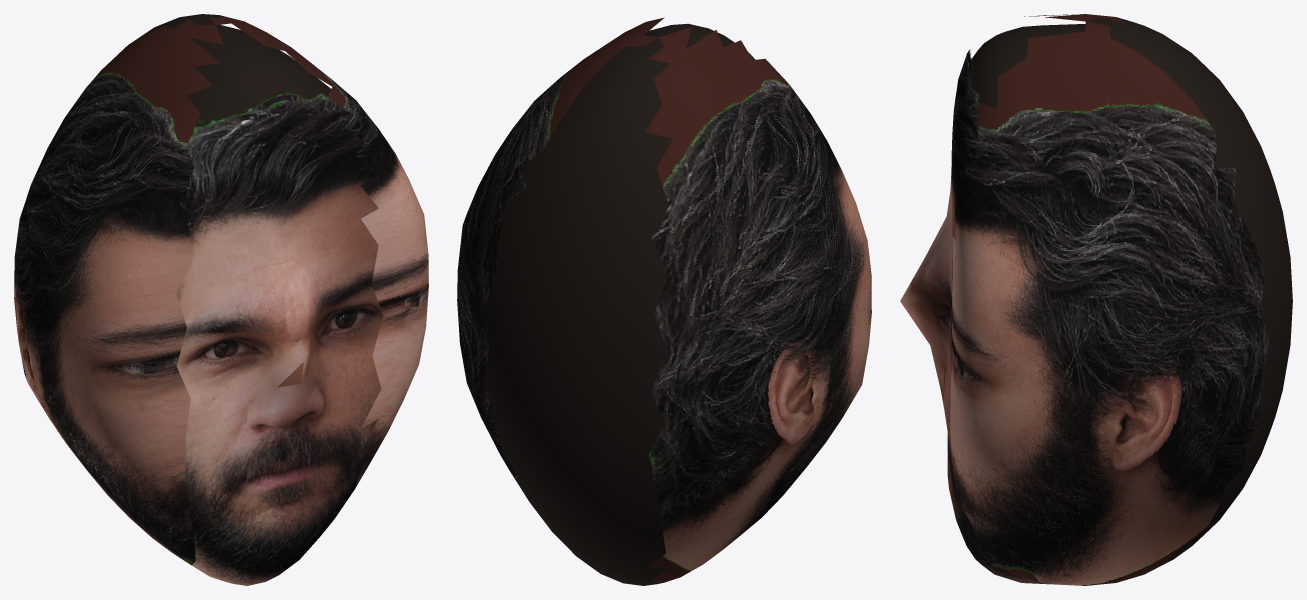
Rendered from CowboyLeo_Head.glb.
3 renders of one model, left to right at view 1: azimuth 30°, elevation 25°; view 2: azimuth 150°, elevation 25°; view 3: azimuth 270°, elevation 25°, orthographic. The views are drawn at different scales.
Visible parts, largest first — view 1: PhotoHeadIdentity, PhotoHeadBase; view 2: PhotoHeadIdentity, PhotoHeadBase; view 3: PhotoHeadIdentity, PhotoHeadBase.
Boxes of the visible parts, x1,y1,x2,y2 form: PhotoHeadIdentity: (14, 14, 428, 585); PhotoHeadBase: (187, 25, 330, 387); PhotoHeadIdentity: (457, 17, 871, 585); PhotoHeadBase: (644, 23, 755, 59); PhotoHeadIdentity: (900, 14, 1292, 585); PhotoHeadBase: (970, 24, 1085, 108).
Bounding box in the file's own units: 0.4247 × 0.621 × 0.3954.
5 materials, 3 textured.
